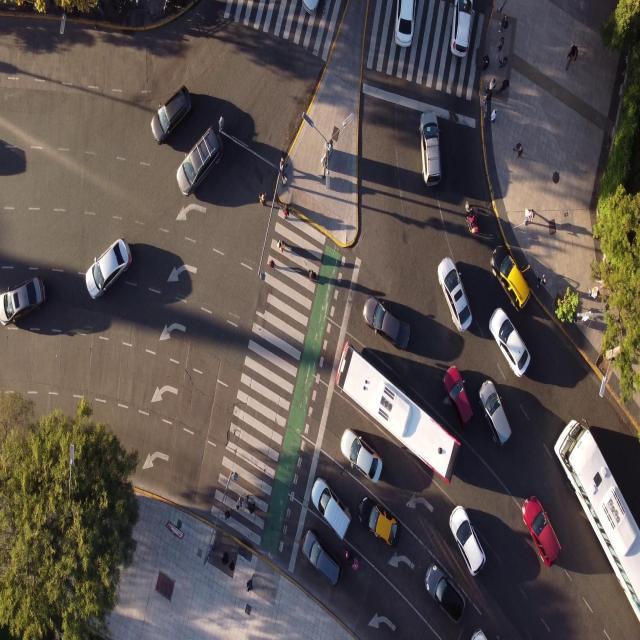Bus: (328, 341, 466, 493), (551, 420, 640, 637)
Car: (82, 224, 137, 316), (176, 124, 222, 197), (488, 308, 531, 380), (522, 494, 562, 568), (492, 246, 532, 312), (448, 505, 484, 577), (438, 257, 472, 332), (313, 477, 352, 542), (424, 559, 463, 623), (150, 86, 192, 145), (478, 377, 513, 444), (367, 297, 410, 351), (303, 528, 341, 588), (0, 276, 45, 326), (341, 428, 382, 482), (359, 494, 397, 546), (444, 364, 474, 425), (417, 112, 439, 187), (450, 0, 474, 57), (394, 0, 416, 49), (430, 484, 432, 486)
